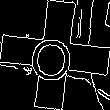O_N: (31, 27, 79, 83)
